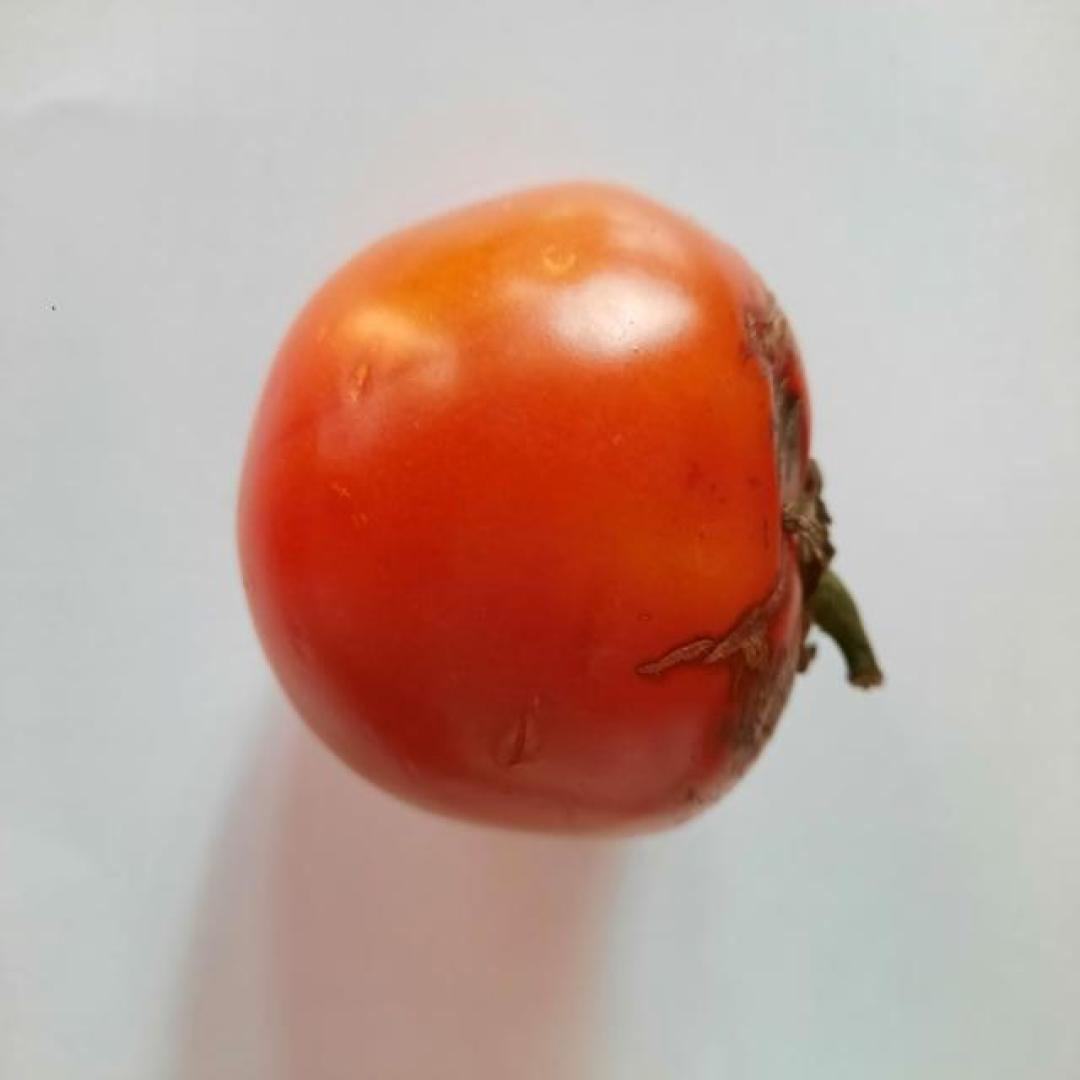matang: (236, 182, 827, 837)
